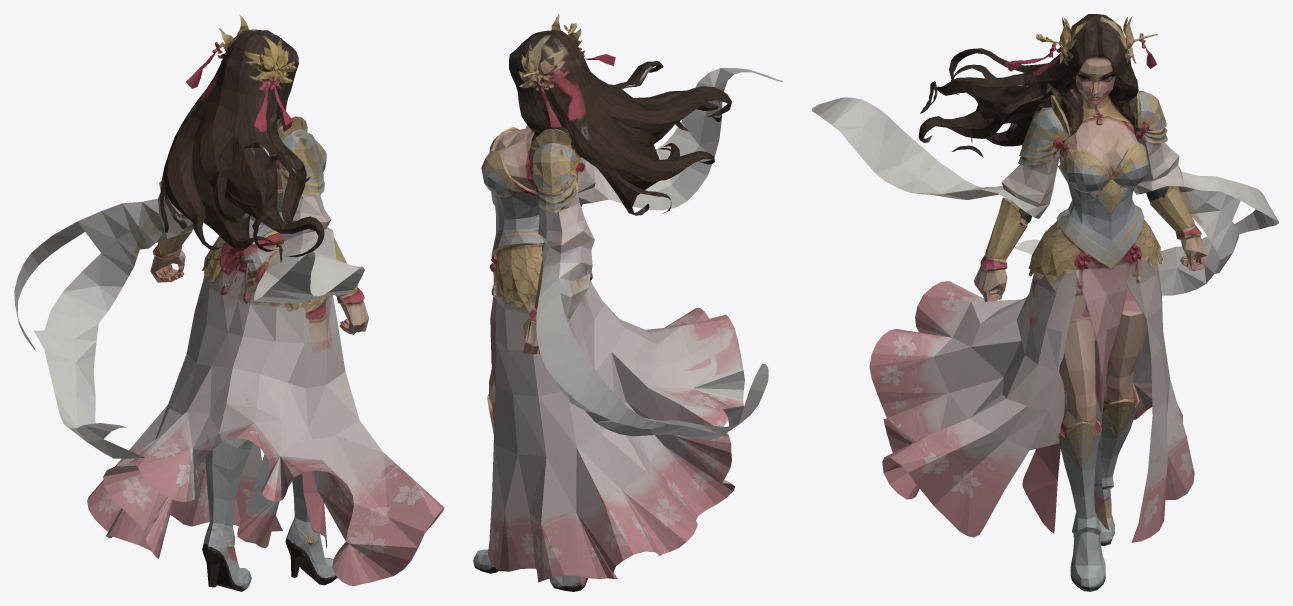
The model's file is hero.glb.
3 renders of one model, left to right at view 1: azimuth 30°, elevation 25°; view 2: azimuth 150°, elevation 25°; view 3: azimuth 270°, elevation 25°, orthographic. The views are drawn at different scales.
Visible parts, largest first — view 1: tripo_node_9103772f-4fd2-4e1f-9ef2-ab14520fbf85; view 2: tripo_node_9103772f-4fd2-4e1f-9ef2-ab14520fbf85; view 3: tripo_node_9103772f-4fd2-4e1f-9ef2-ab14520fbf85.
Boxes of the visible parts, left/top/right/bottom form: tripo_node_9103772f-4fd2-4e1f-9ef2-ab14520fbf85: left=14, top=14, right=444, bottom=591; tripo_node_9103772f-4fd2-4e1f-9ef2-ab14520fbf85: left=473, top=14, right=783, bottom=591; tripo_node_9103772f-4fd2-4e1f-9ef2-ab14520fbf85: left=812, top=14, right=1278, bottom=591.
Bounding box in the file's own units: 0.5264 × 1 × 0.7808.
1 material, 1 textured.
